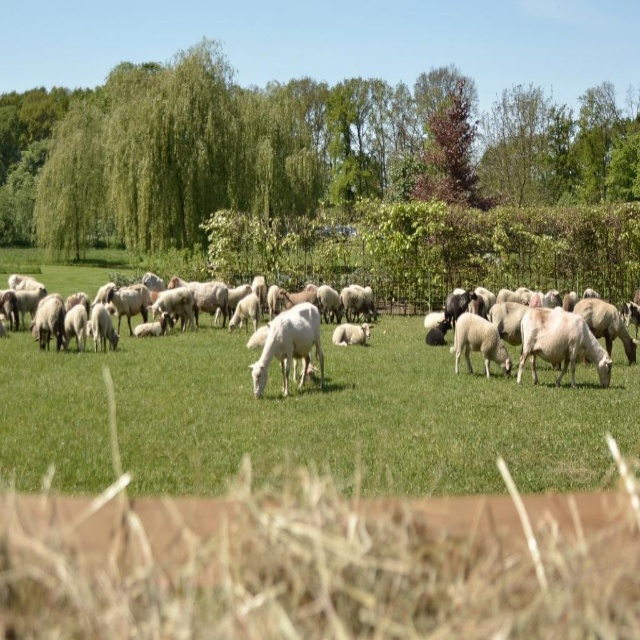Cattle: (0, 272, 640, 400)
